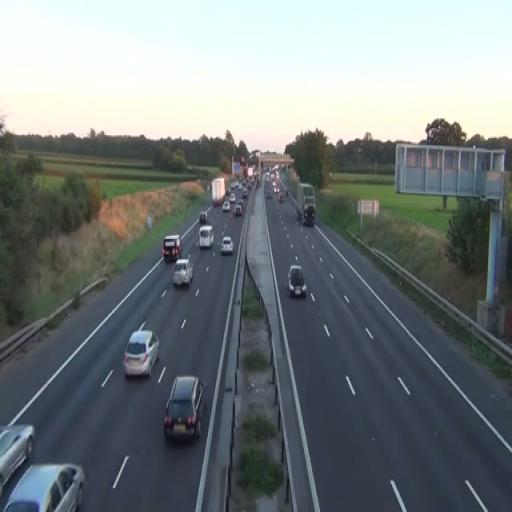Car: (2, 463, 86, 511), (164, 375, 206, 443), (0, 424, 35, 502), (122, 328, 160, 378), (172, 258, 194, 290), (288, 264, 306, 298), (198, 225, 214, 250), (220, 236, 233, 256), (234, 203, 244, 217), (222, 198, 230, 213)
Truck: (300, 183, 316, 225), (162, 235, 181, 263)
